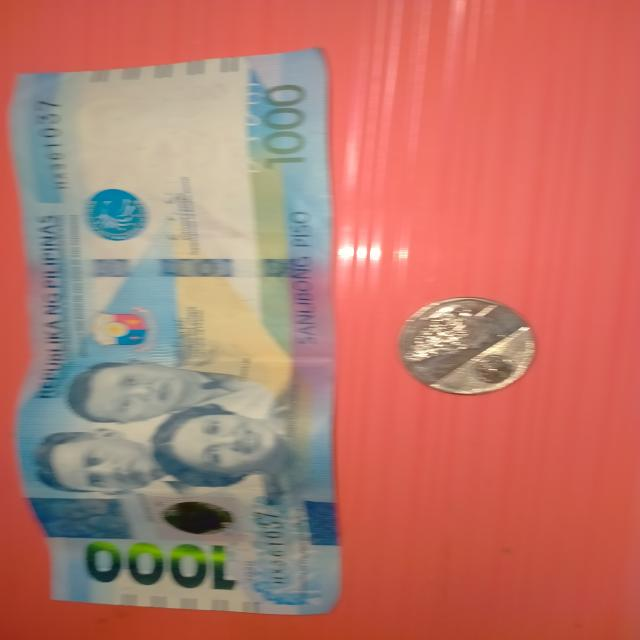optically_variable_device: (141, 491, 245, 543)
